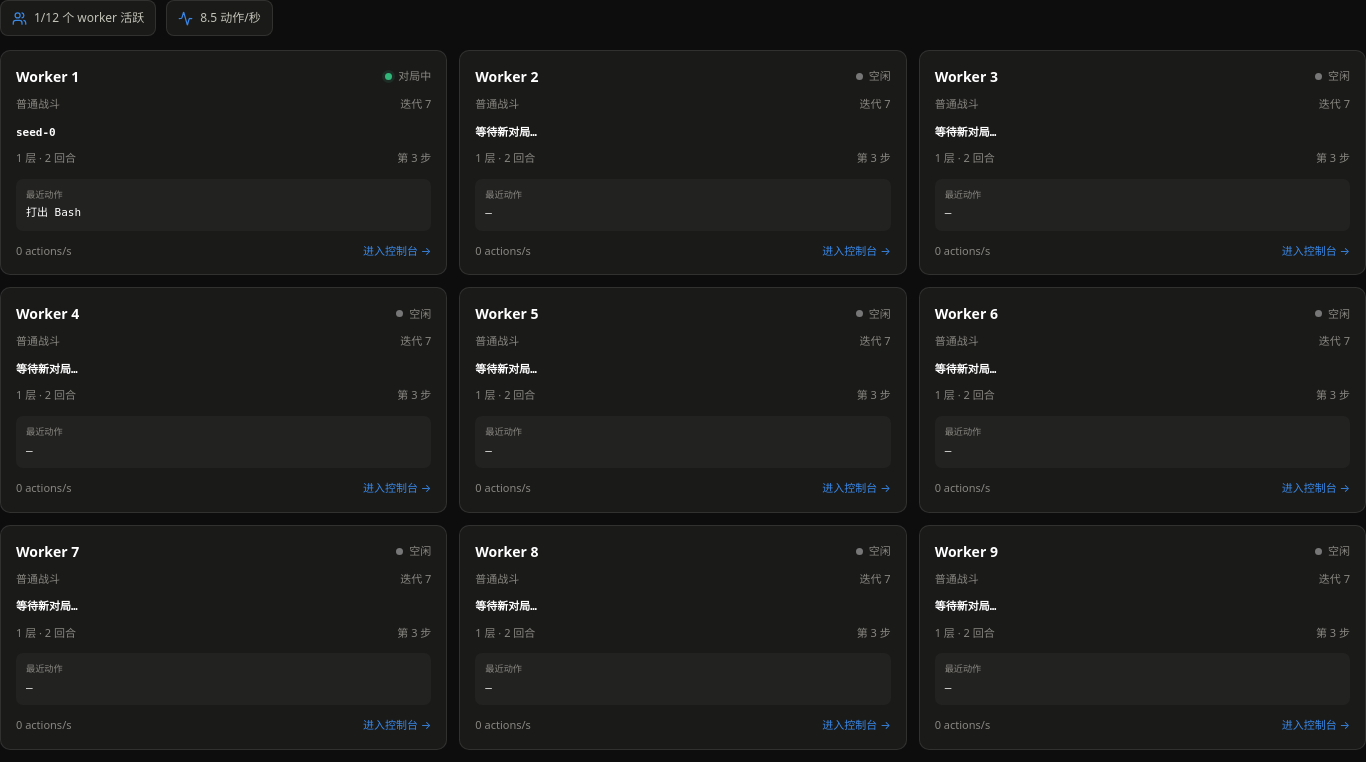
live worker console › shows 12 workers and drills into one console
This screenshot has width=1366, height=762.
expect the text "1/12 个 worker 活跃" is shown: met, box [0,0,156,36]
Click the text "Worker 1". click: (48, 76)
box: [16,66,79,87]
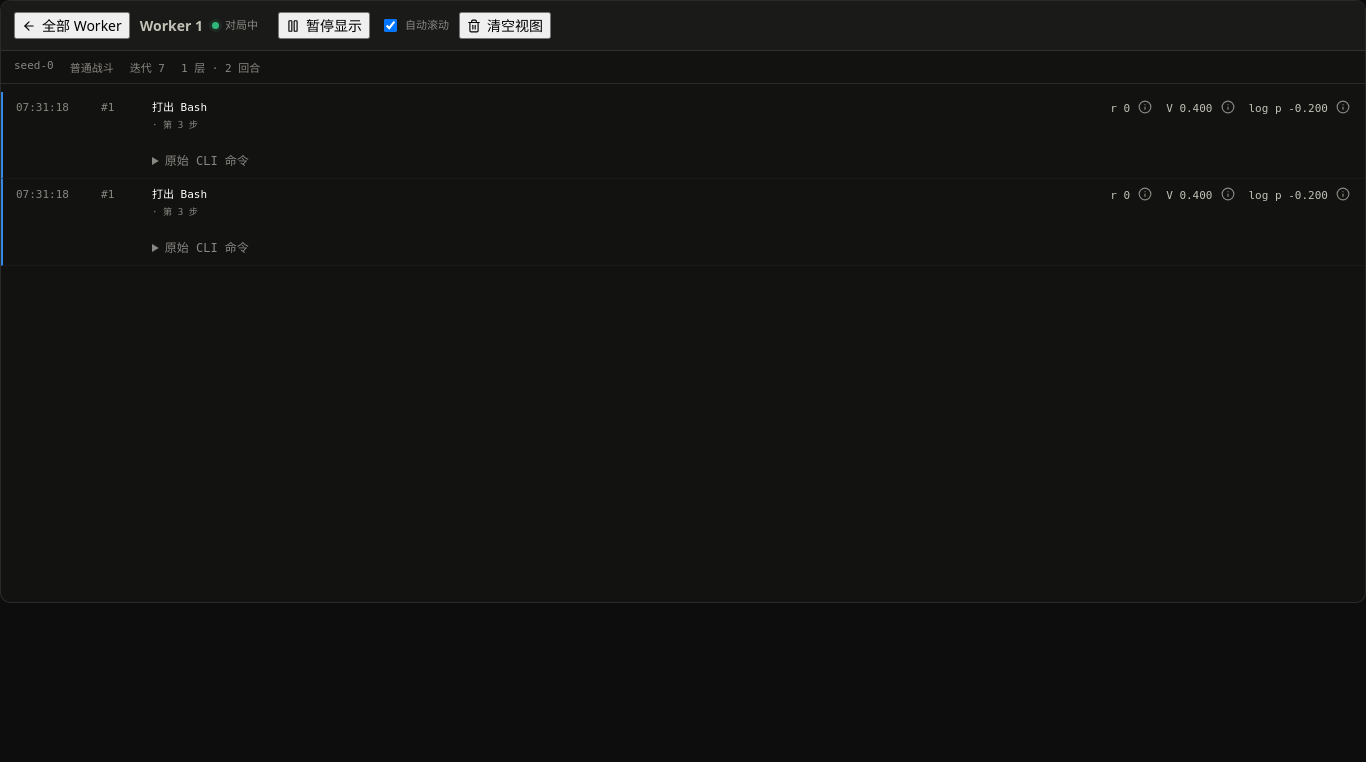
expect the 1st text "打出 Bash" is shown: met, box [152,101,207,114]
expect the button "全部 Worker" is shown: met, box [14,12,130,39]
Click the button "暂停显示". click: (324, 26)
box: [278,12,370,39]
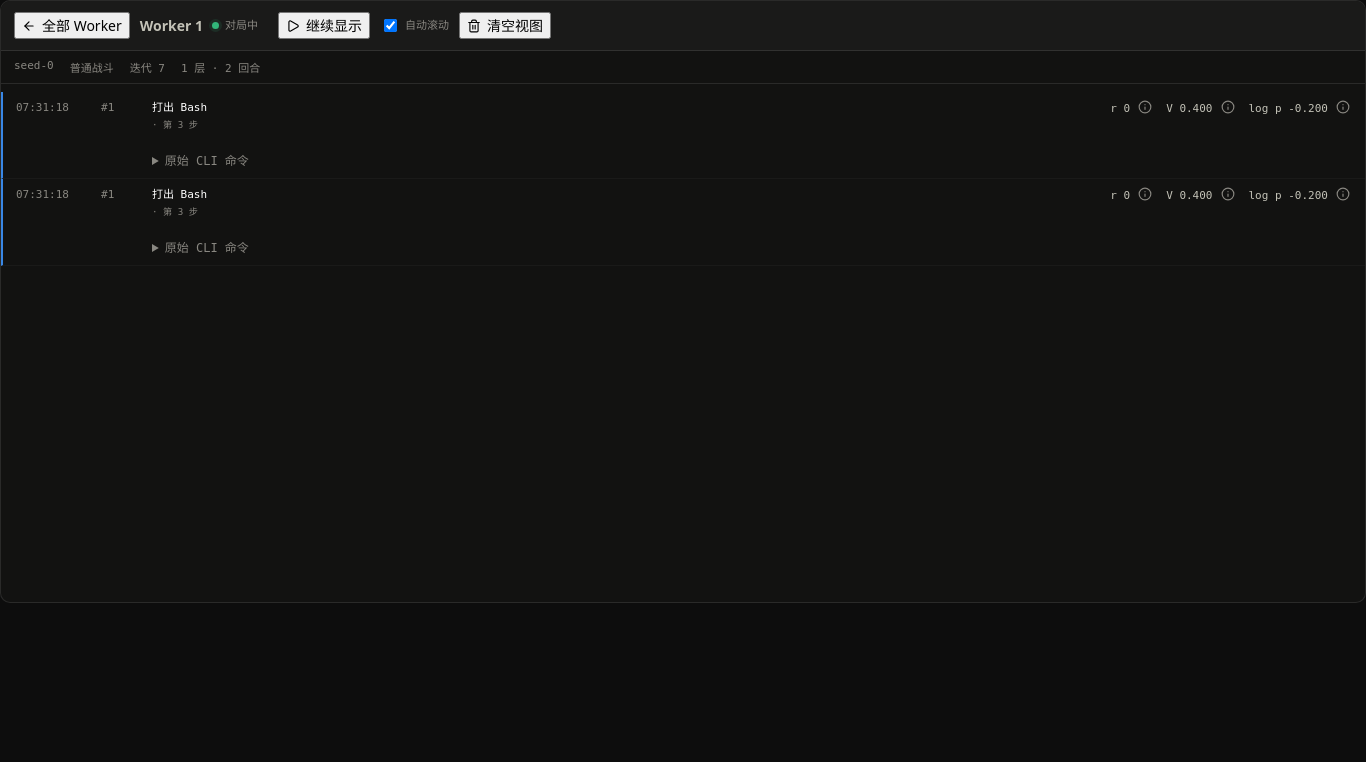
expect the button "继续显示" is shown: met, box [278,12,370,39]
